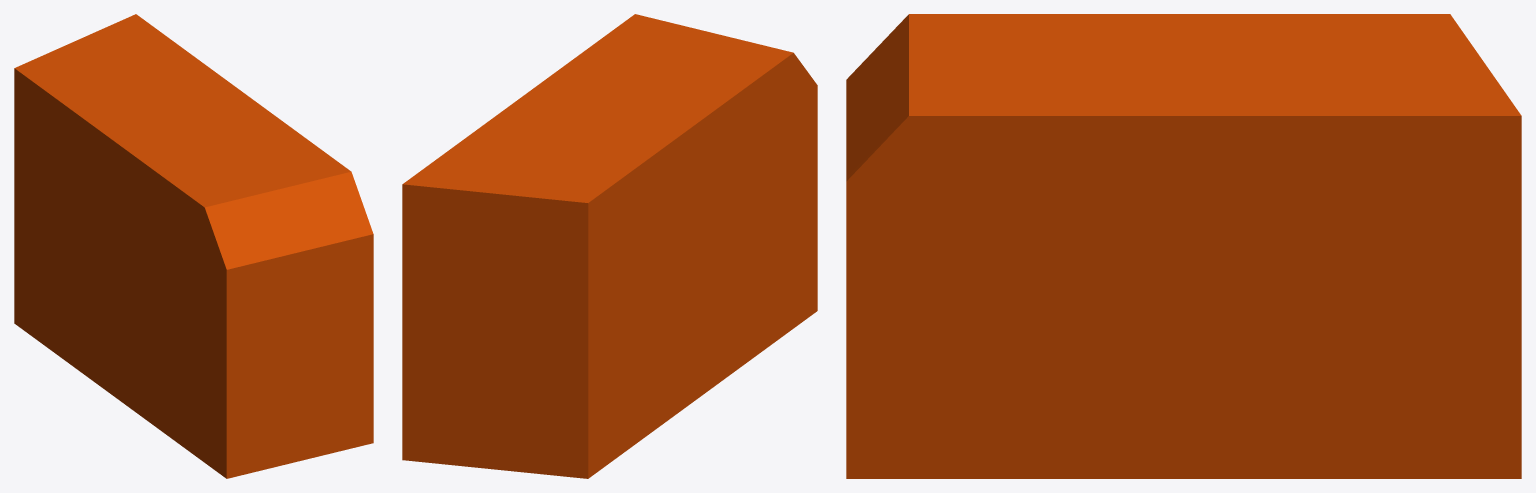
The model's file is simple_example_hole_part_13.obj.
3 views of the same model, side by side, from view 1: azimuth 30°, elevation 25°; view 2: azimuth 150°, elevation 25°; view 3: azimuth 270°, elevation 25° (orthographic). The views are drawn at different scales.
Bounding box in the file's own units: 7.35 × 12.21 × 20.59.
